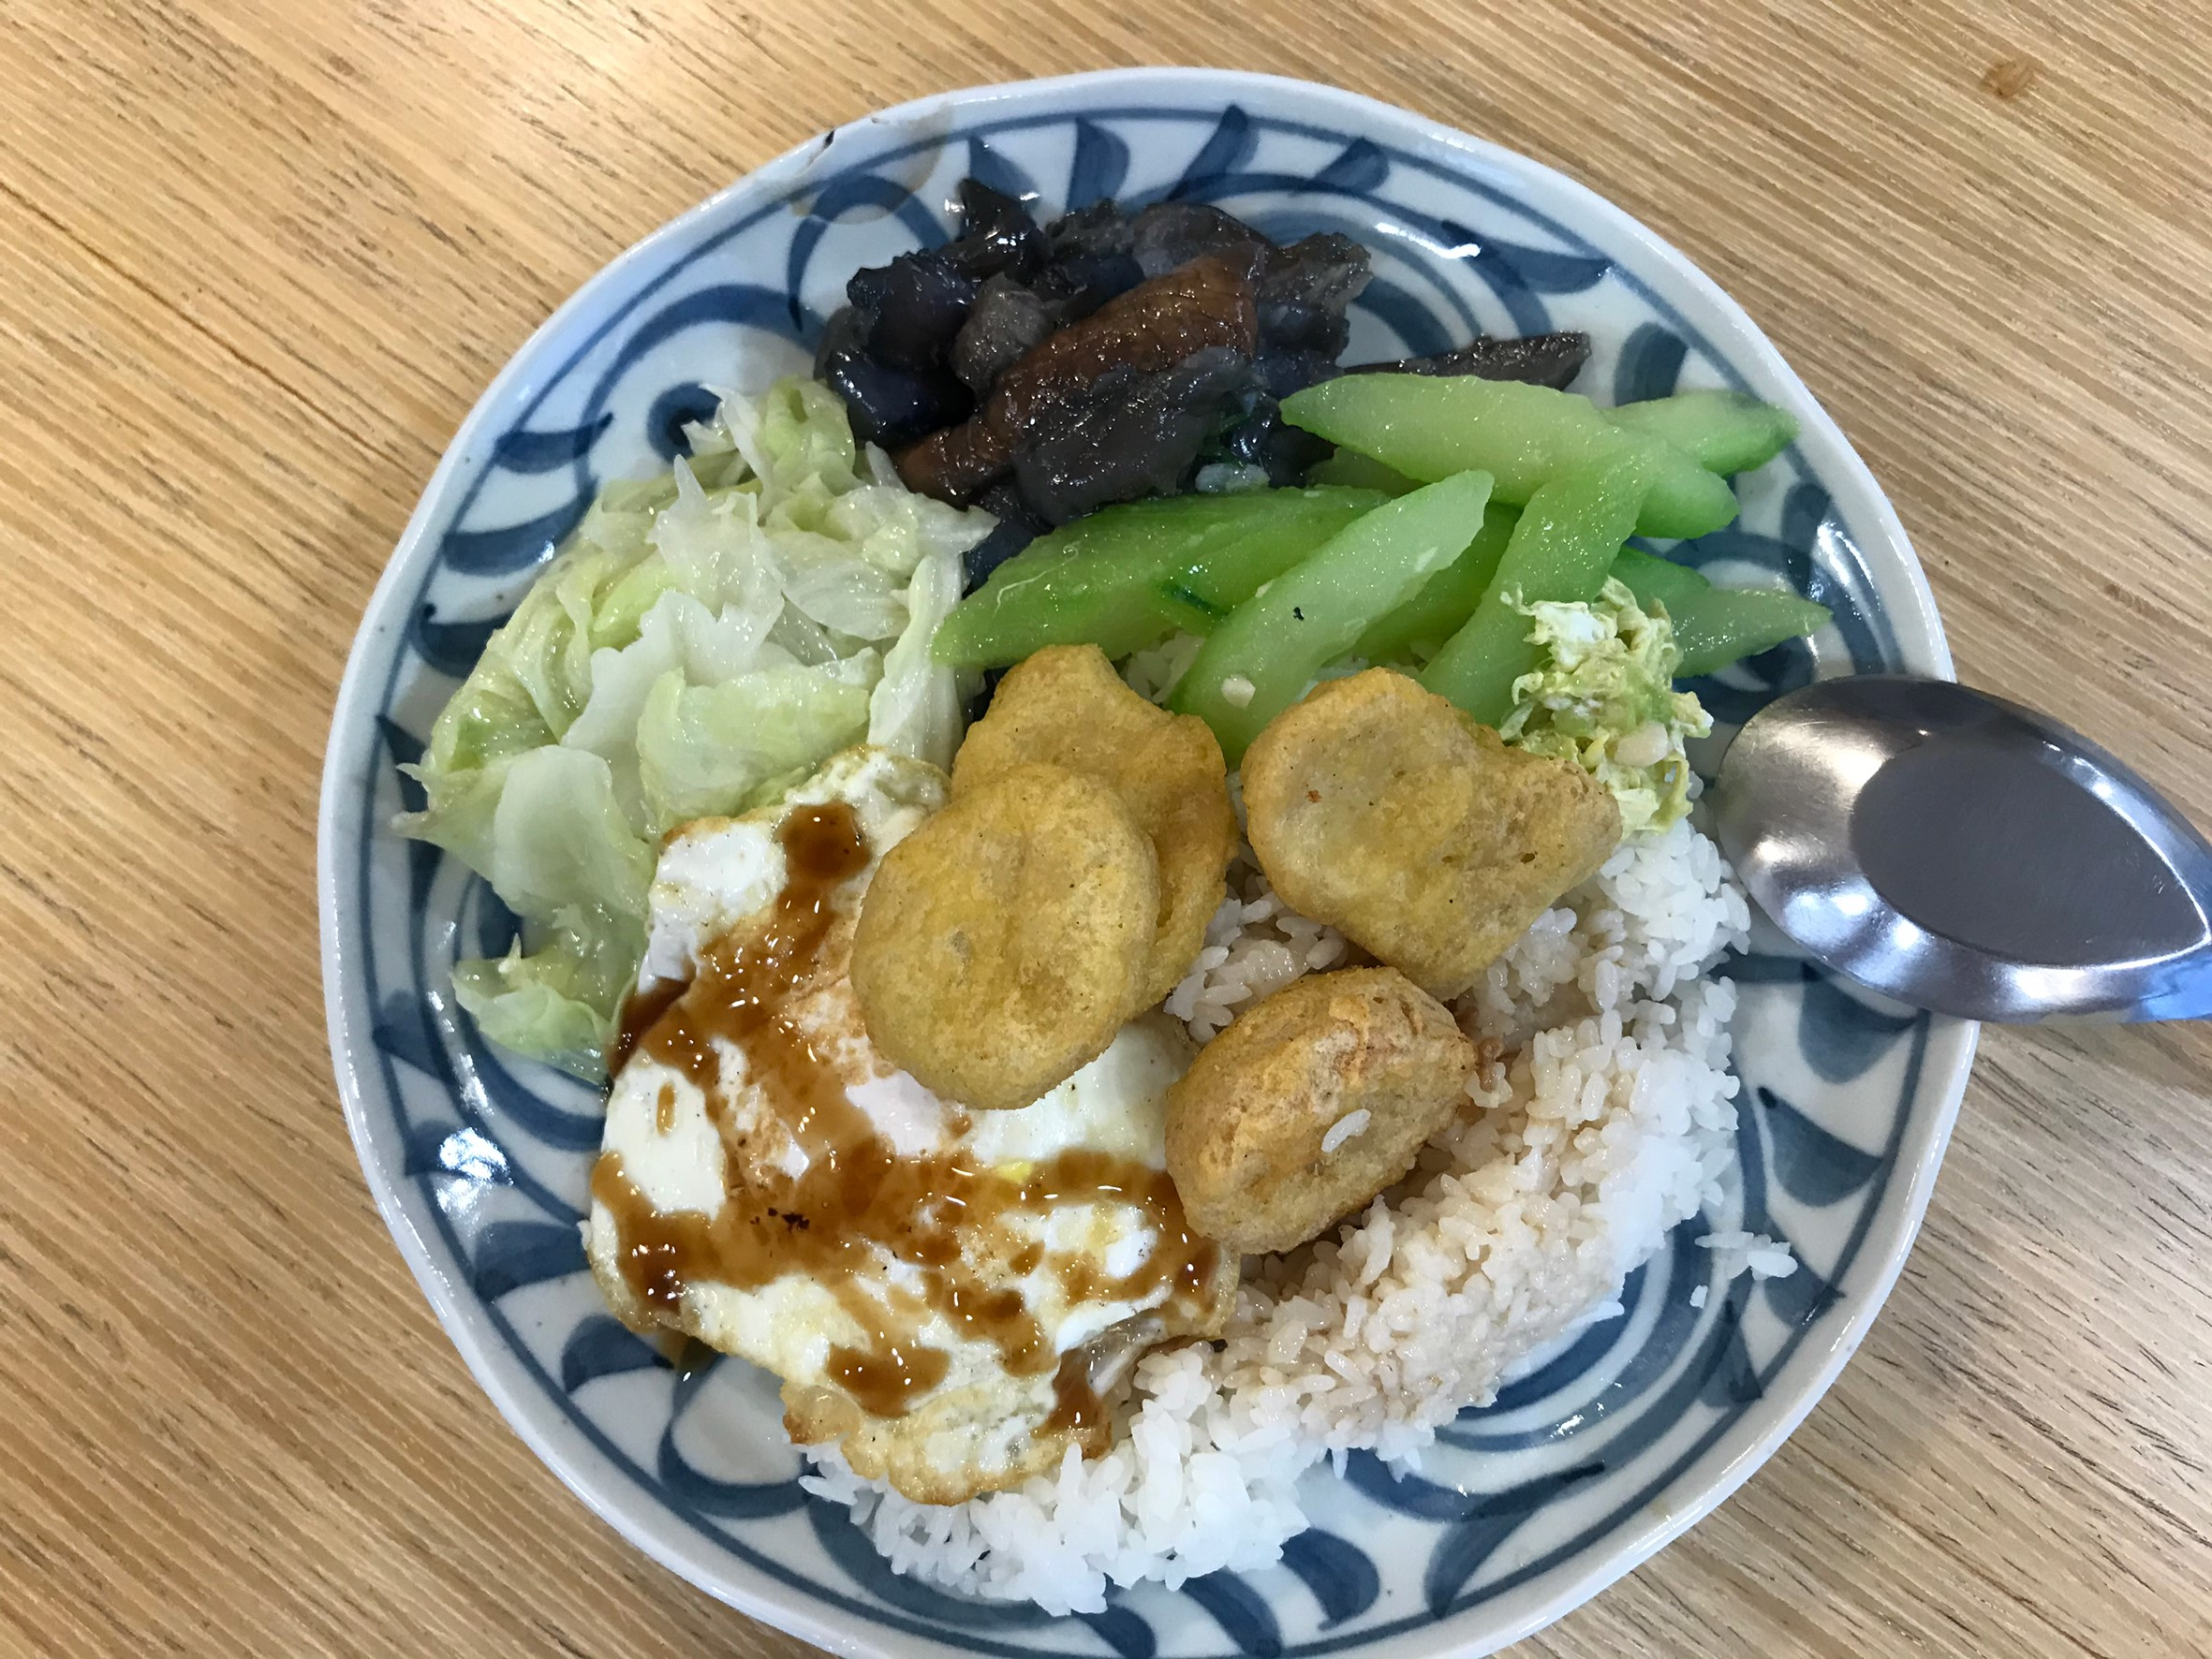chicken_nuggets: (872, 647, 1600, 1253)
chinese_cabbage: (462, 399, 901, 885)
fried_eggs: (587, 873, 1194, 1492)
rice: (1497, 890, 1733, 1323), (1159, 1230, 1522, 1478)
